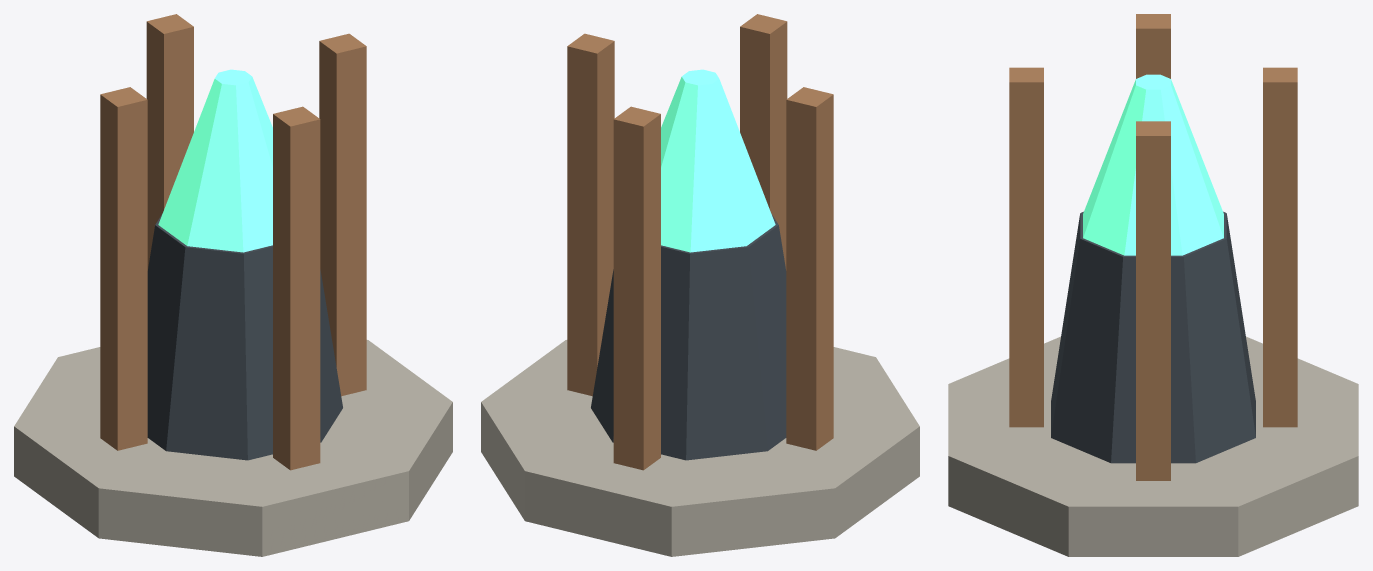
Rendered from SM_AEON_TreasuryAnchor.glb.
The picture shows the model from 3 angles, left to right: view 1: azimuth 30°, elevation 25°; view 2: azimuth 150°, elevation 25°; view 3: azimuth 270°, elevation 25°; orthographic projection.
Visible parts, largest first — view 1: SM_AEON_TreasuryAnchor; view 2: SM_AEON_TreasuryAnchor; view 3: SM_AEON_TreasuryAnchor.
Part boxes in pixels (bbox=[...]): SM_AEON_TreasuryAnchor: bbox=[14, 14, 452, 556]; SM_AEON_TreasuryAnchor: bbox=[481, 14, 919, 556]; SM_AEON_TreasuryAnchor: bbox=[948, 14, 1358, 556].
Size of the model in its own units: 2.59 by 2.75 by 2.59.
